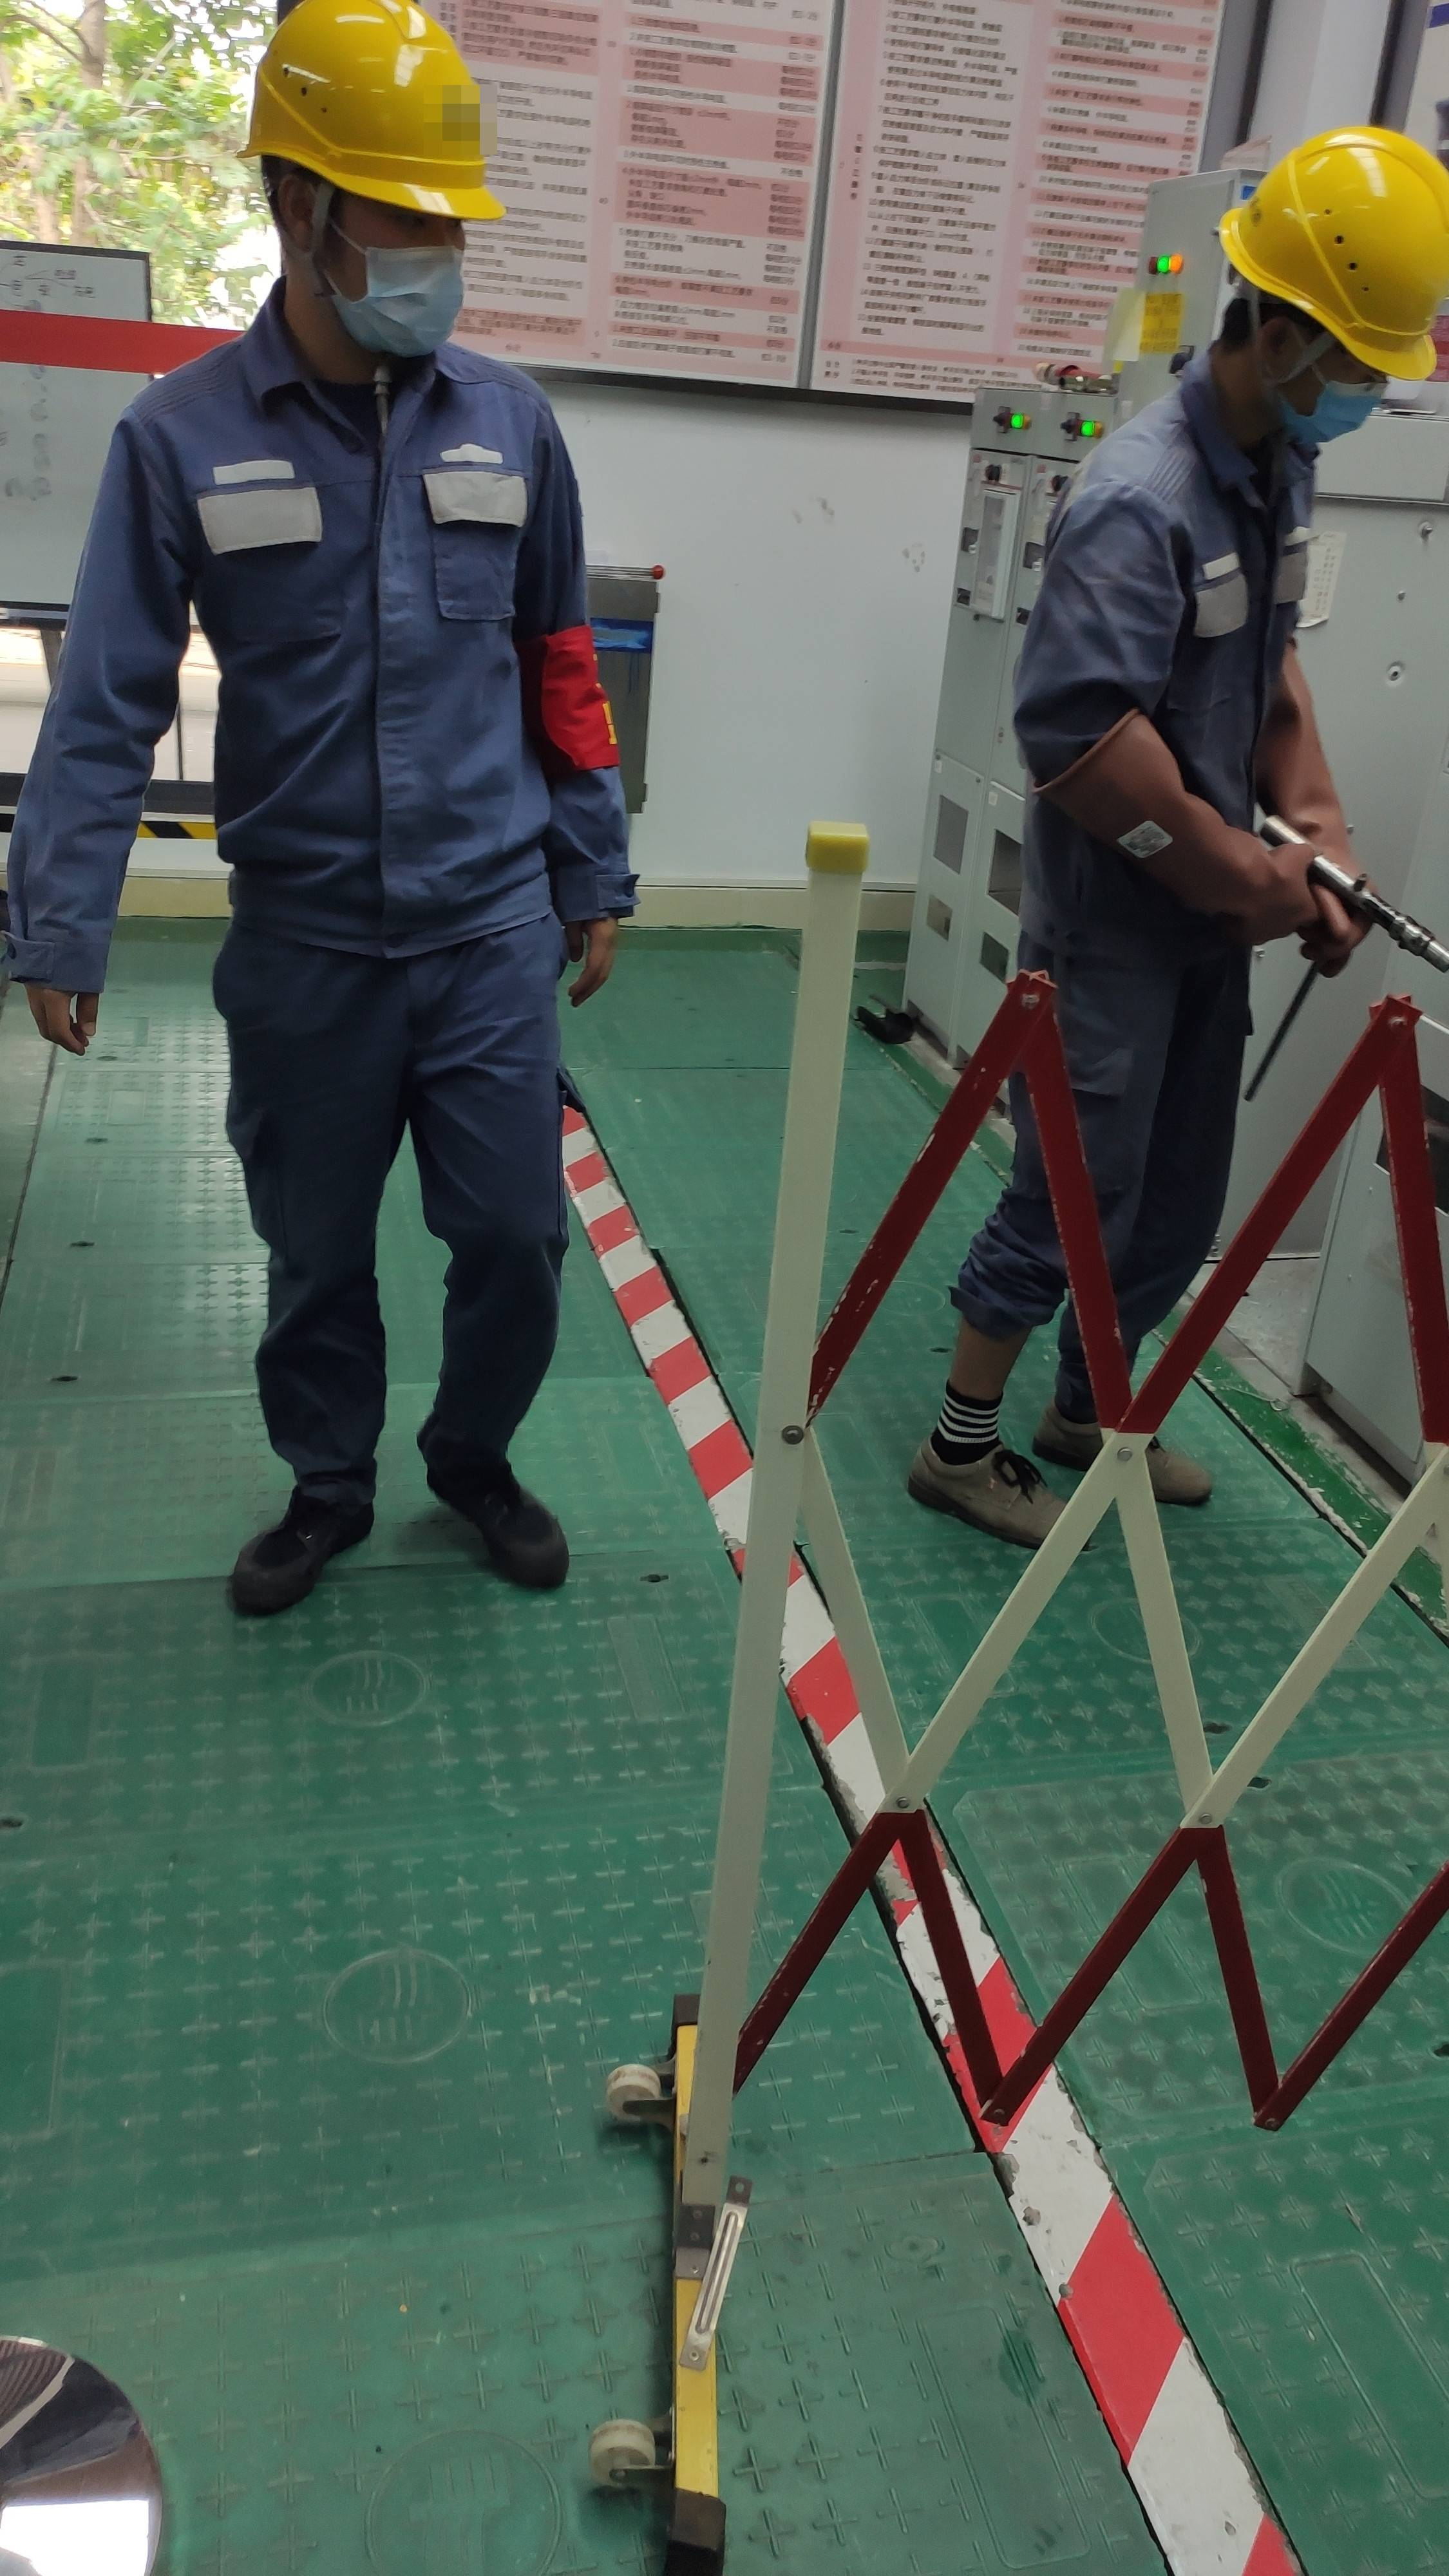downsuit: (195, 959, 579, 1468), (950, 941, 1256, 1451)
upsuit: (2, 324, 639, 939), (1016, 396, 1338, 938)
wrongbottom: (948, 1242, 1044, 1421)
